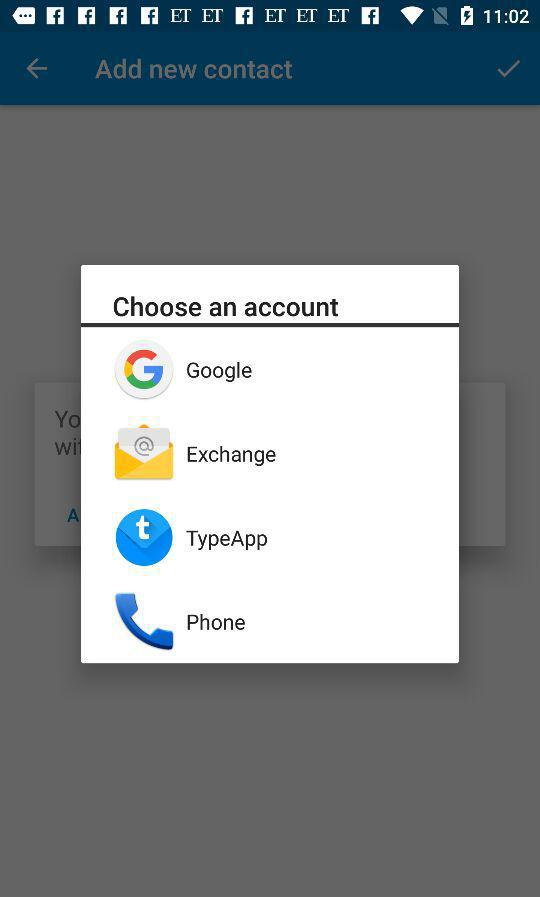Icon: (115, 340, 176, 400), (27, 58, 49, 81), (497, 60, 521, 79)
Image: (115, 592, 174, 651), (116, 510, 173, 566), (116, 424, 174, 479)
Modal: (82, 266, 459, 664)
Text: (115, 296, 339, 318), (96, 61, 293, 81), (188, 446, 277, 466), (186, 530, 268, 550), (187, 362, 253, 383), (187, 613, 246, 630)
UpperTaskBar: (1, 1, 540, 33)
